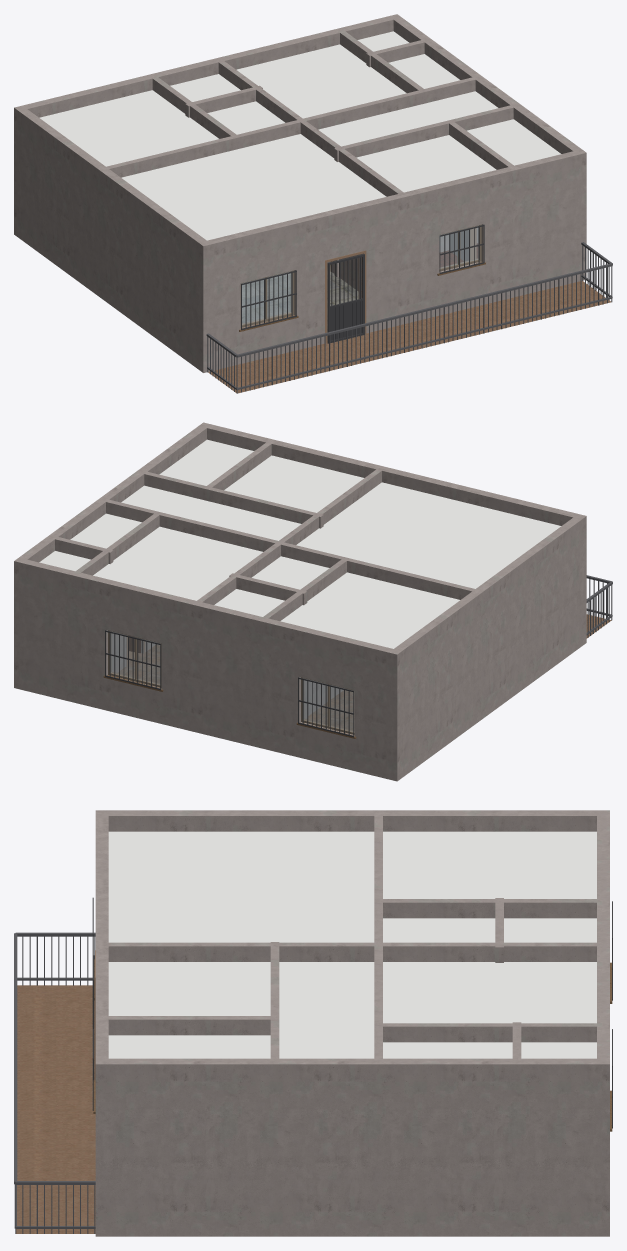
Rendered from flat_interior.glb.
The picture shows the model from 3 angles, top to bottom: view 1: azimuth 30°, elevation 25°; view 2: azimuth 150°, elevation 25°; view 3: azimuth 270°, elevation 25°; orthographic projection. The views are drawn at different scales.
Visible parts, largest first — view 1: flat_interior_static, ceiling_mesh, door_f0_living_gallery_security_mesh; view 2: flat_interior_static, ceiling_mesh; view 3: flat_interior_static, ceiling_mesh.
Boxes of the visible parts, x1=… form: flat_interior_static: x1=14, y1=14, x2=612, y2=393; ceiling_mesh: x1=39, y1=31, x2=561, y2=240; door_f0_living_gallery_security_mesh: x1=327, y1=254, x2=364, y2=343; flat_interior_static: x1=14, y1=422, x2=612, y2=781; ceiling_mesh: x1=39, y1=439, x2=561, y2=648; flat_interior_static: x1=14, y1=810, x2=612, y2=1236; ceiling_mesh: x1=108, y1=831, x2=596, y2=1058.
Size of the model in its own units: 10.43 by 3.3 by 10.39.
Materials: 15 (9 with a texture image).
